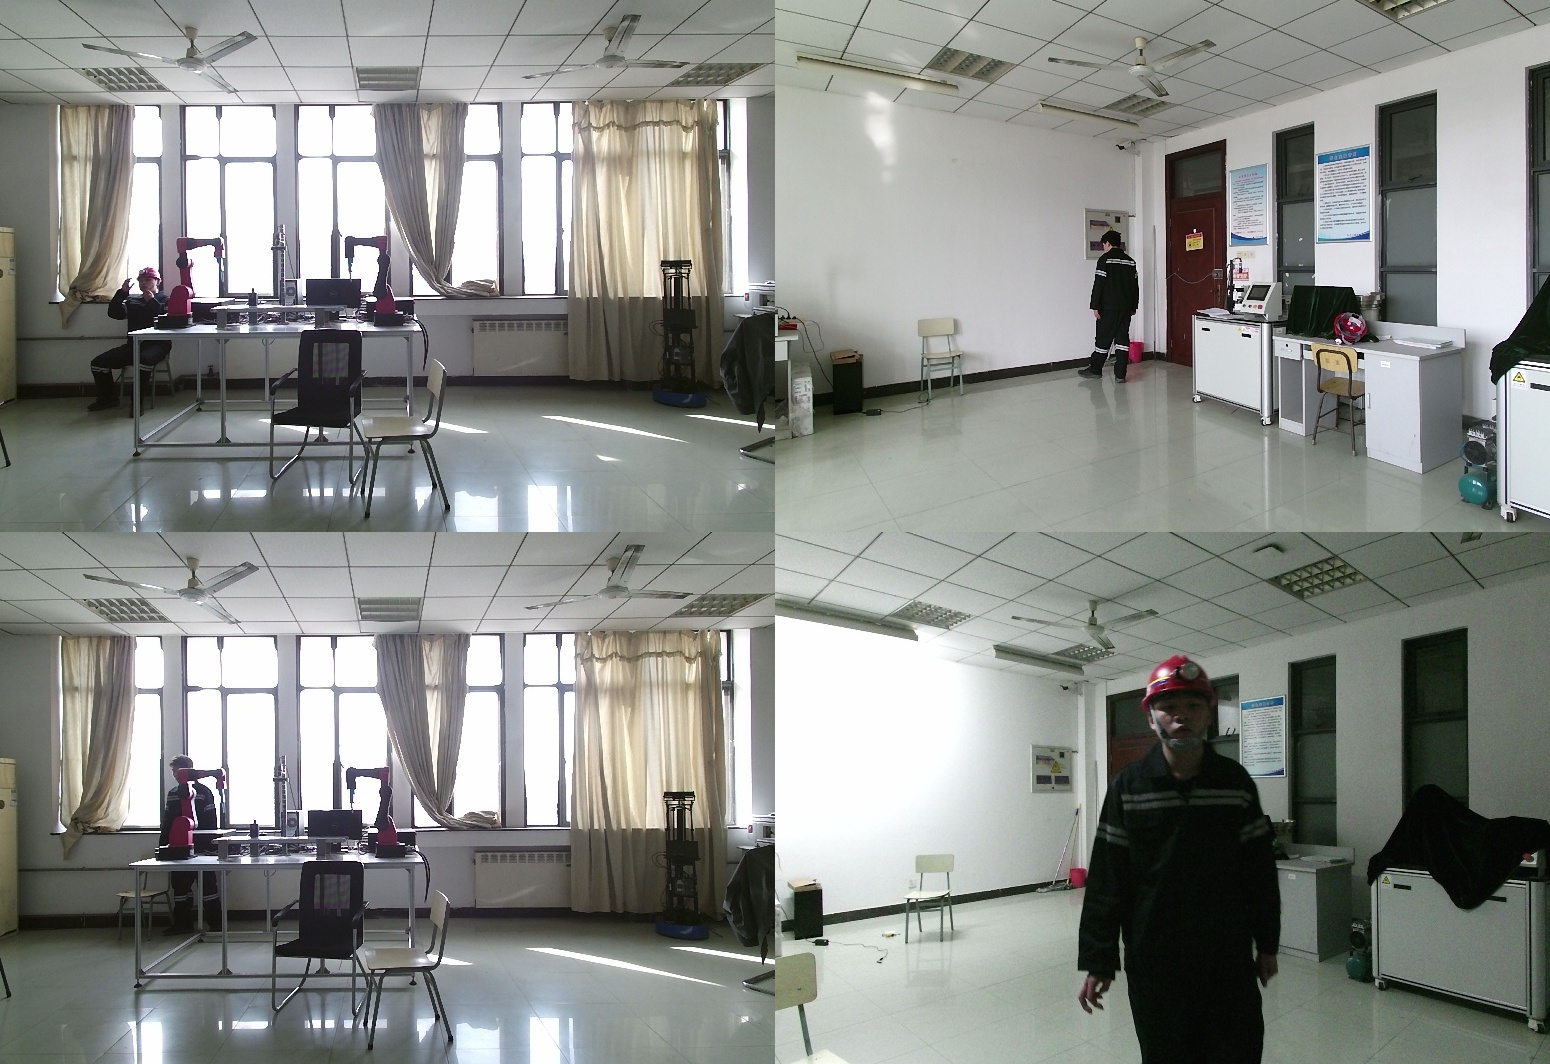person: (1076, 652, 1300, 1064), (83, 266, 172, 416), (157, 755, 226, 943), (1082, 231, 1141, 384)
